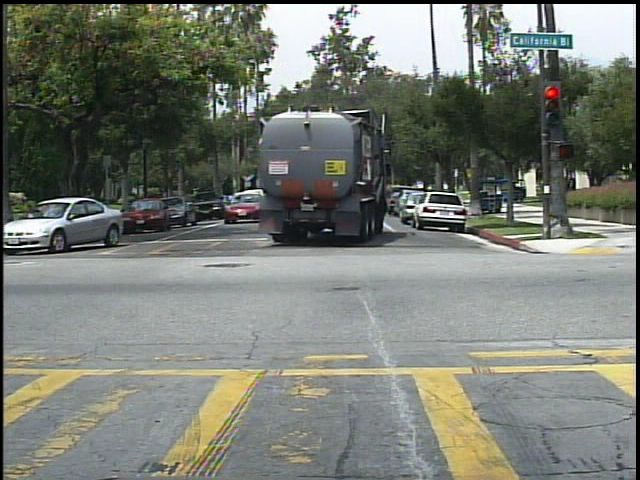person: (565, 170, 584, 203), (517, 180, 531, 199)
